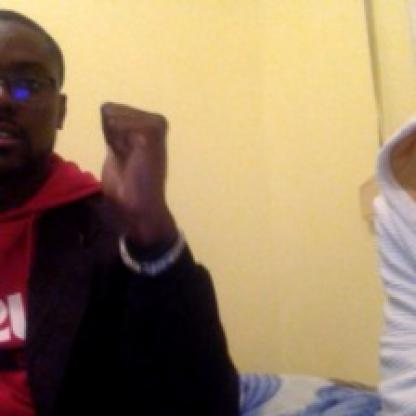BACKWARD: (77, 81, 190, 269)
